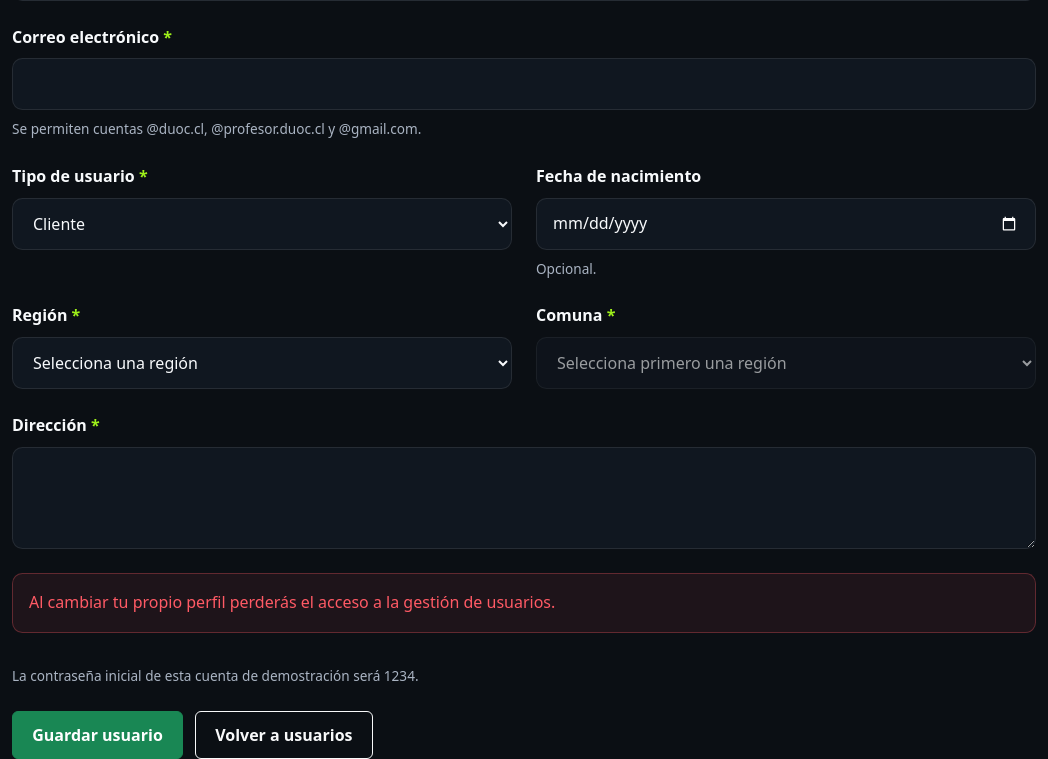
Test case: AdminUserForm › valida los campos requeridos y enfoca el primero sin guardar
(page scrolled)
Click the button "Guardar usuario". click: (98, 735)
box: [12,711,183,758]
(page scrolled)
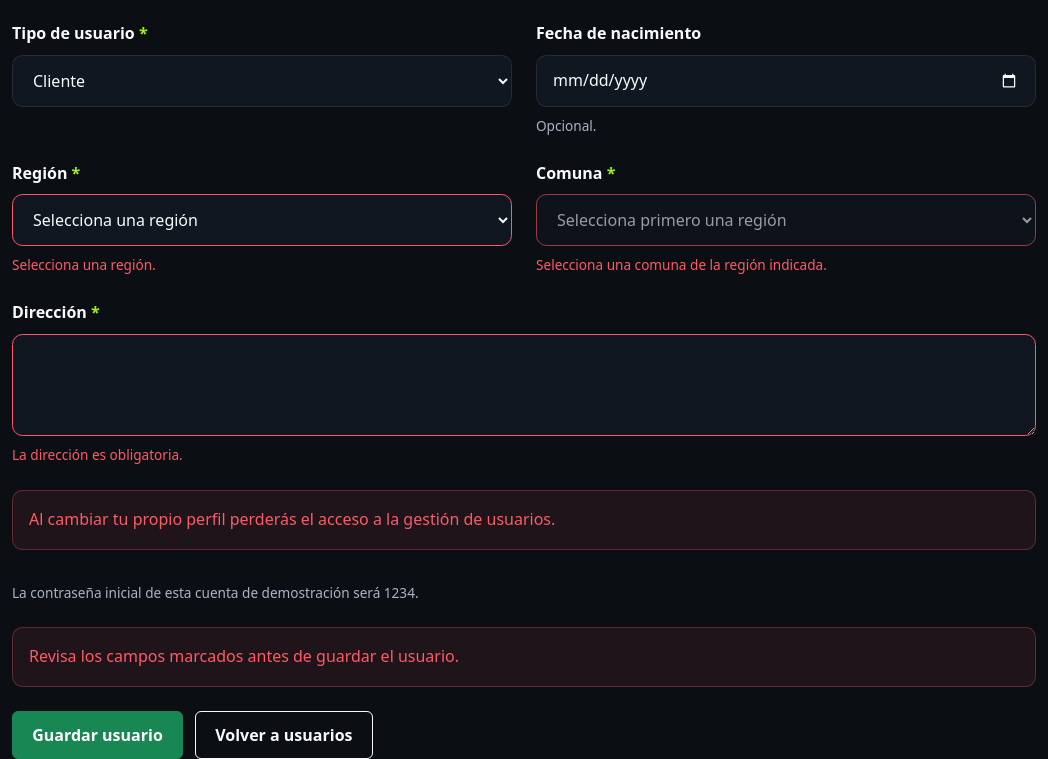
Result: the message "Revisa los campos marcados antes de guardar el usuario." is shown at [12,627,1036,687]
